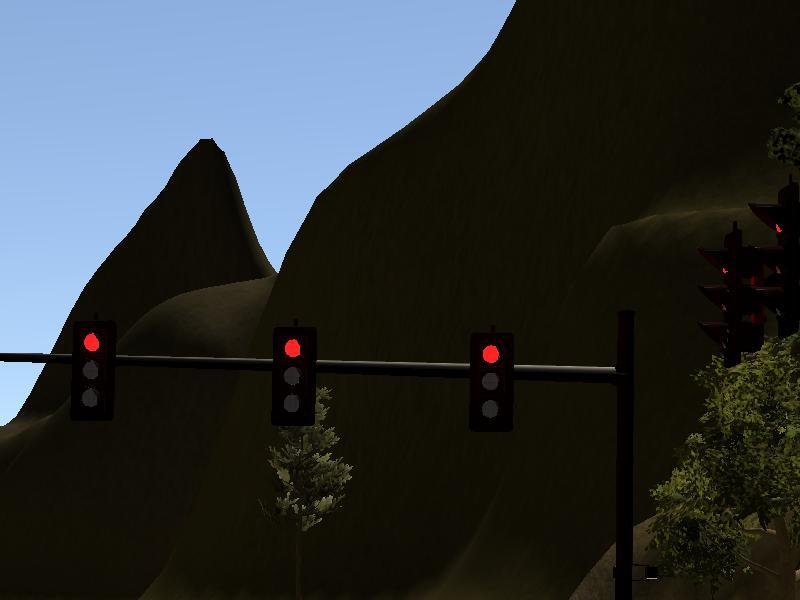Red: (75, 321, 116, 418), (276, 331, 317, 424), (471, 334, 512, 423)
